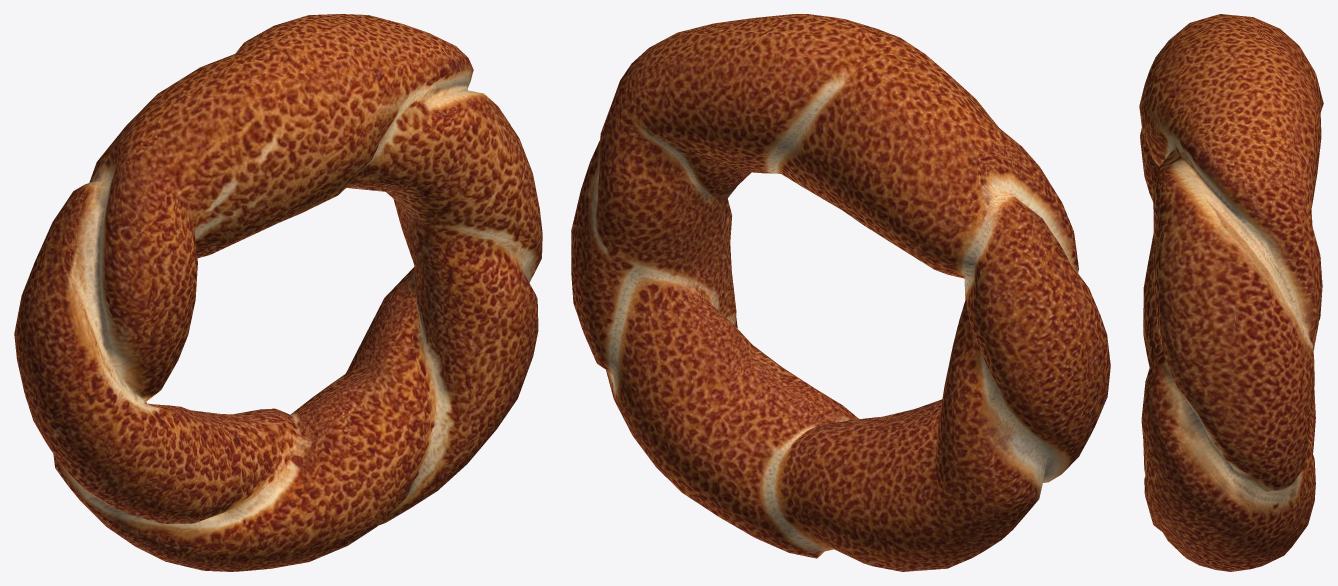
The model's file is simit.glb.
The picture shows the model from 3 angles, left to right: view 1: azimuth 30°, elevation 25°; view 2: azimuth 150°, elevation 25°; view 3: azimuth 270°, elevation 25°; orthographic projection. The views are drawn at different scales.
Size of the model in its own units: 1 by 0.9922 by 0.3223.
Materials: 1 (1 with a texture image).
